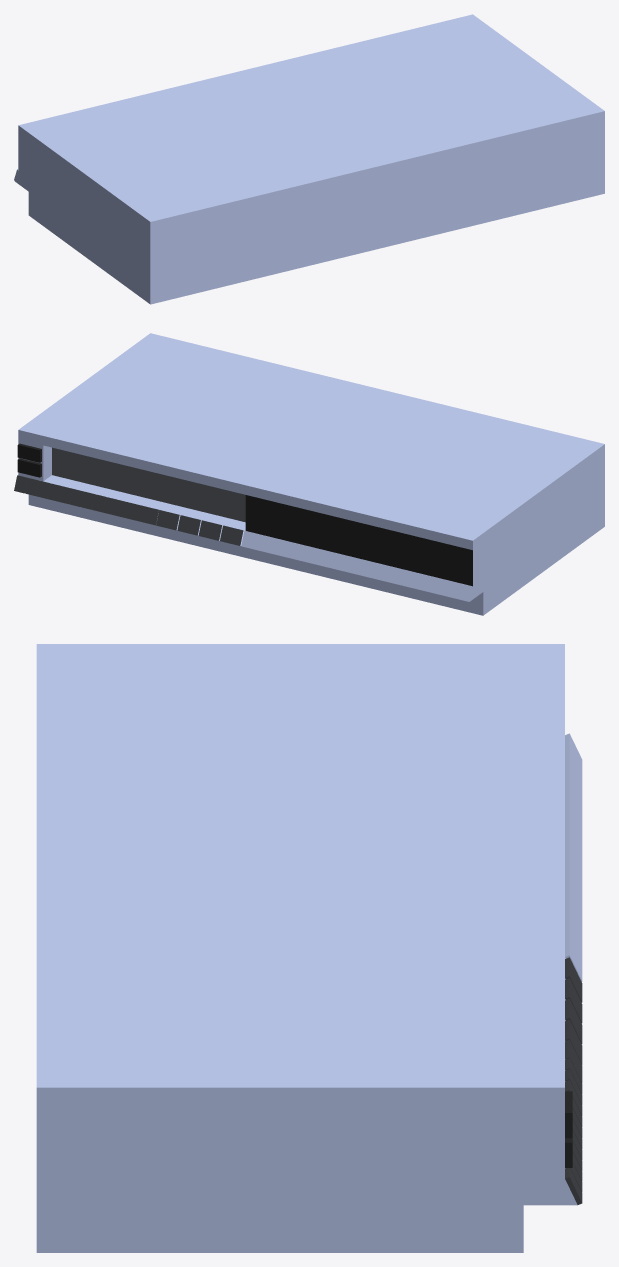
The model's file is VHS_player.fbx.
3 views of the same model, one above another, from view 1: azimuth 30°, elevation 25°; view 2: azimuth 150°, elevation 25°; view 3: azimuth 270°, elevation 25° (orthographic). The views are drawn at different scales.
Parts seen in each view (by area): view 1: Plane.026; view 2: Plane.026; view 3: Plane.026.
Part boxes in pixels (box(x1,y1,x2,y2)): Plane.026: box(14, 14, 604, 304); Plane.026: box(14, 333, 604, 615); Plane.026: box(36, 644, 582, 1252).
Size of the model in its own units: 1.58 by 0.8193 by 0.2737.
